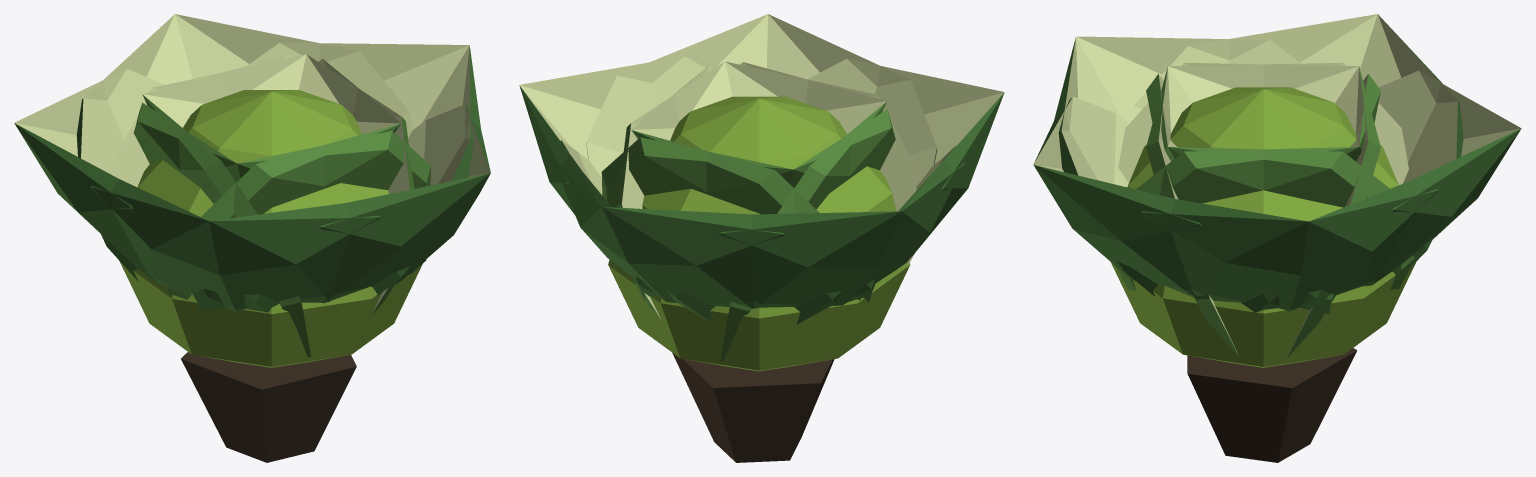
Rendered from mdvl_farm_cabbage_stage_02.glb.
3 views of the same model, side by side, from view 1: azimuth 30°, elevation 25°; view 2: azimuth 150°, elevation 25°; view 3: azimuth 270°, elevation 25° (orthographic). The views are drawn at different scales.
Visible parts, largest first — view 1: mdvl_farm_cabbage_stage_02; view 2: mdvl_farm_cabbage_stage_02; view 3: mdvl_farm_cabbage_stage_02.
Boxes of the visible parts, bbox=[...] form: mdvl_farm_cabbage_stage_02: bbox=[14, 14, 490, 462]; mdvl_farm_cabbage_stage_02: bbox=[519, 14, 1004, 462]; mdvl_farm_cabbage_stage_02: bbox=[1033, 14, 1521, 462].
Size of the model in its own units: 0.1567 by 0.125 by 0.1559.
Materials: 1 (1 with a texture image).
